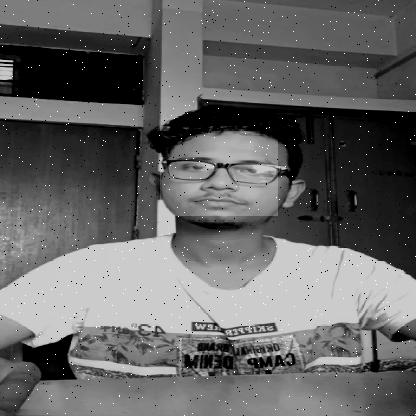Normal: (160, 126, 278, 216)
